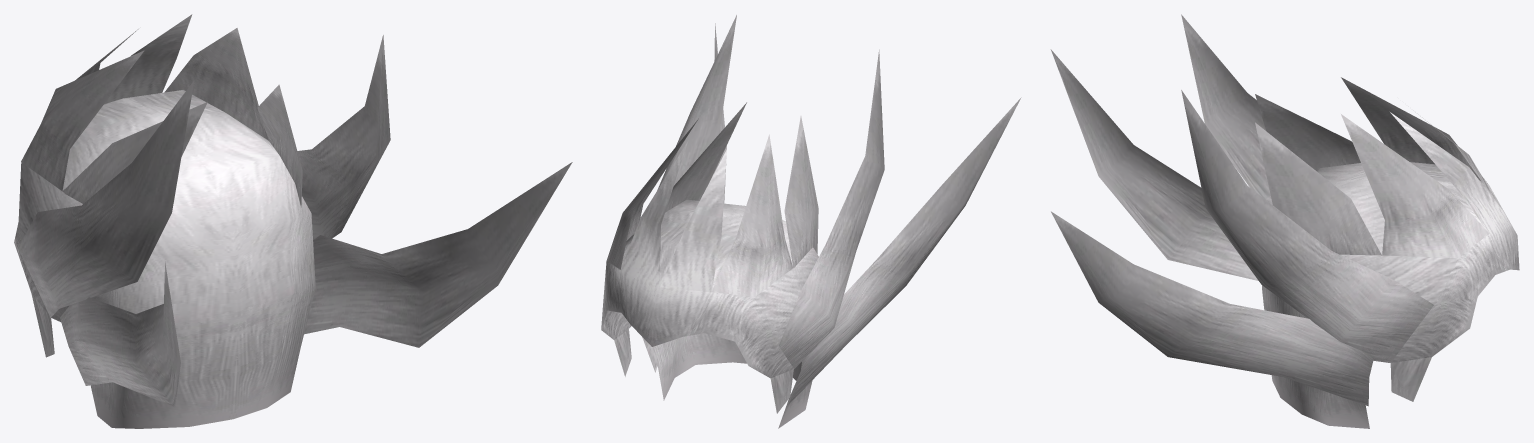
Rendered from Martial arts male hair 38.glb.
The picture shows the model from 3 angles, left to right: view 1: azimuth 30°, elevation 25°; view 2: azimuth 150°, elevation 25°; view 3: azimuth 270°, elevation 25°; orthographic projection. The views are drawn at different scales.
Parts seen in each view (by area): view 1: 头发02_0; view 2: 头发02_0; view 3: 头发02_0.
Boxes of the visible parts, left/top/right/bottom form: 头发02_0: left=14, top=14, right=572, bottom=428; 头发02_0: left=601, top=15, right=1021, bottom=428; 头发02_0: left=1050, top=14, right=1519, bottom=428.
Size of the model in its own units: 0.2894 by 0.2885 by 0.3534.
Materials: 1 (1 with a texture image).
